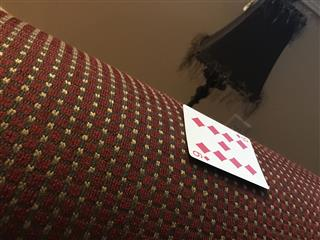NineOfDiamonds: (181, 102, 270, 190)
